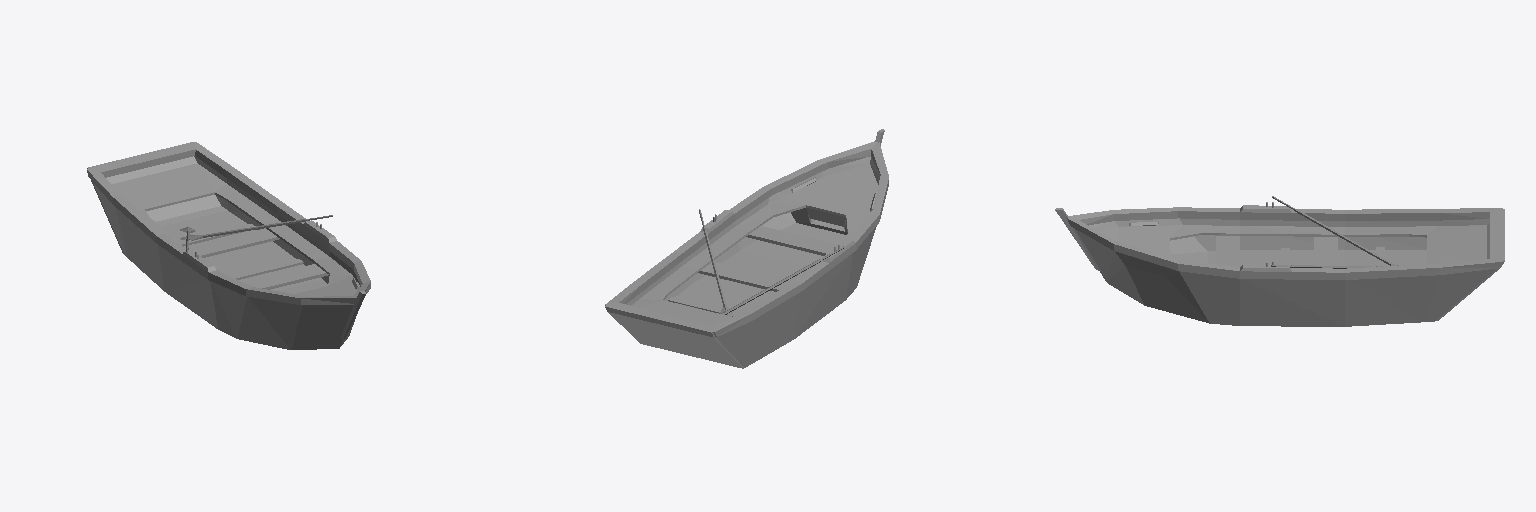
Rendered from OldBoat.obj.
The picture shows the model from 3 angles: view 1: azimuth 30°, elevation 25°; view 2: azimuth 150°, elevation 25°; view 3: azimuth 270°, elevation 25°; orthographic projection.
Parts seen in each view (by area): view 1: boat; view 2: boat; view 3: boat.
Part boxes in pixels (left/top/right/bottom): boat: left=87, top=142, right=370, bottom=349; boat: left=605, top=129, right=888, bottom=368; boat: left=1055, top=202, right=1504, bottom=326.
Bounding box in the file's own units: 14.74 × 8.65 × 39.18.